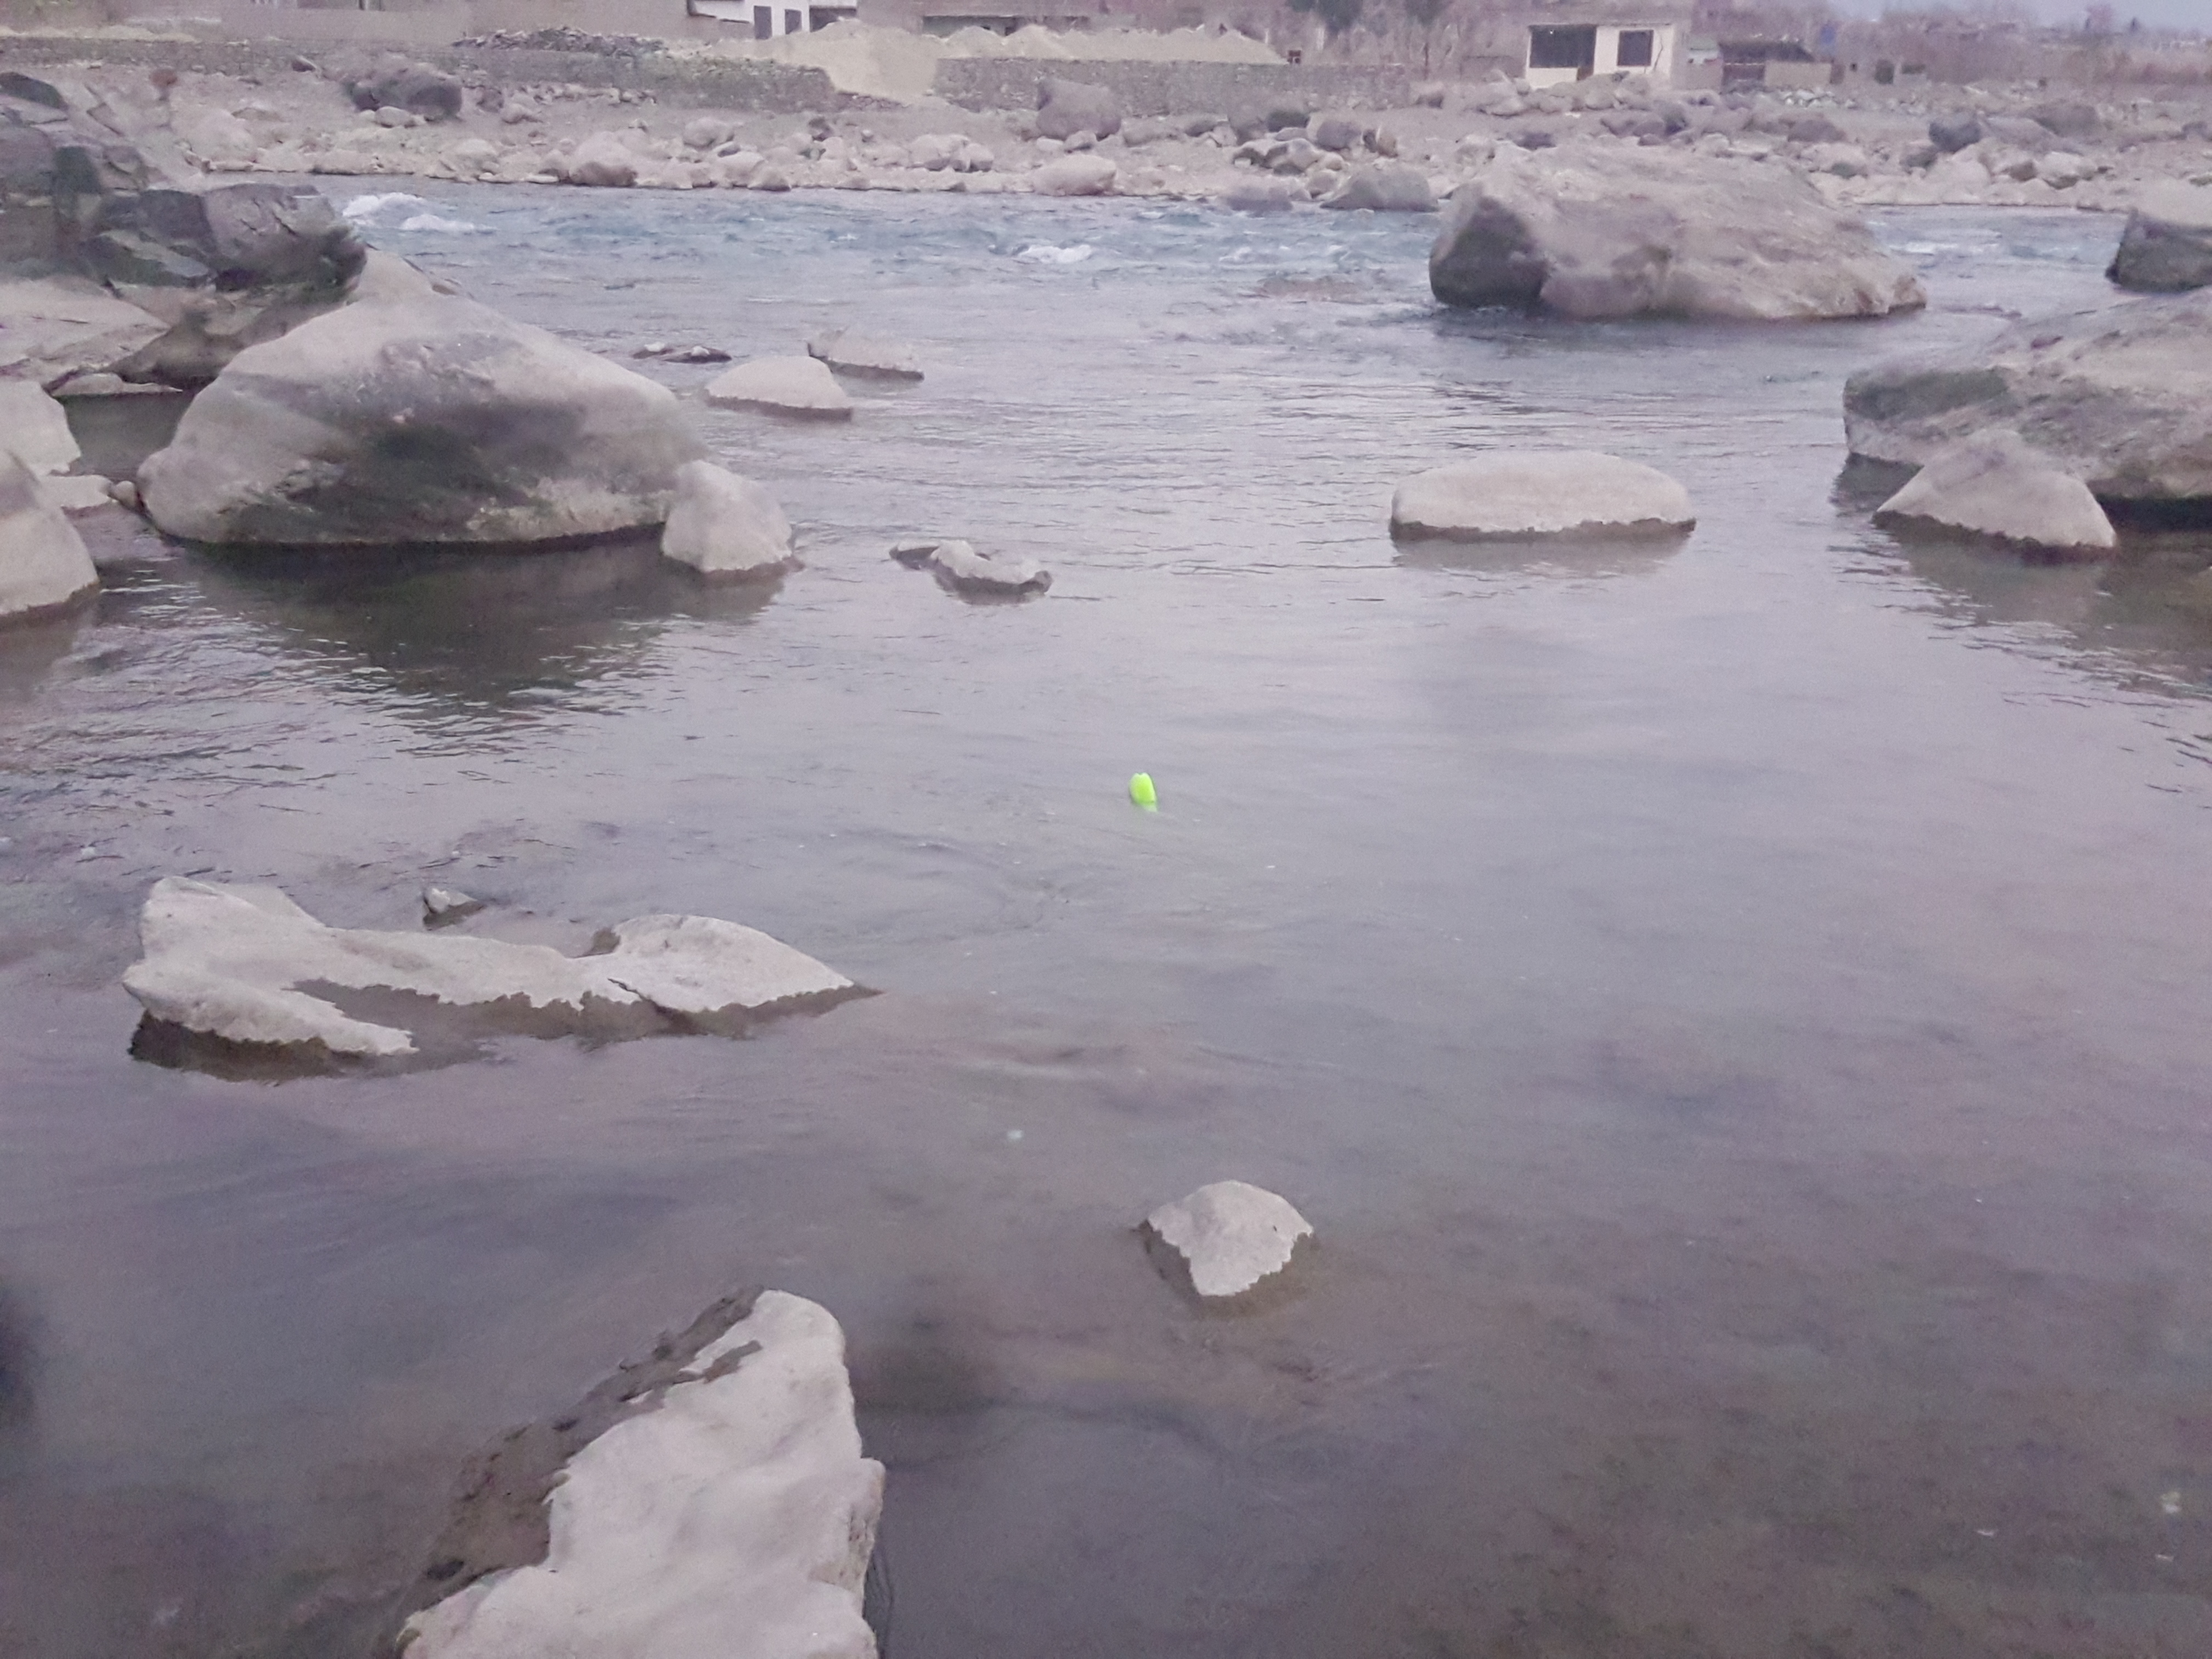Plastic Bottle: (1129, 772, 1157, 805)
